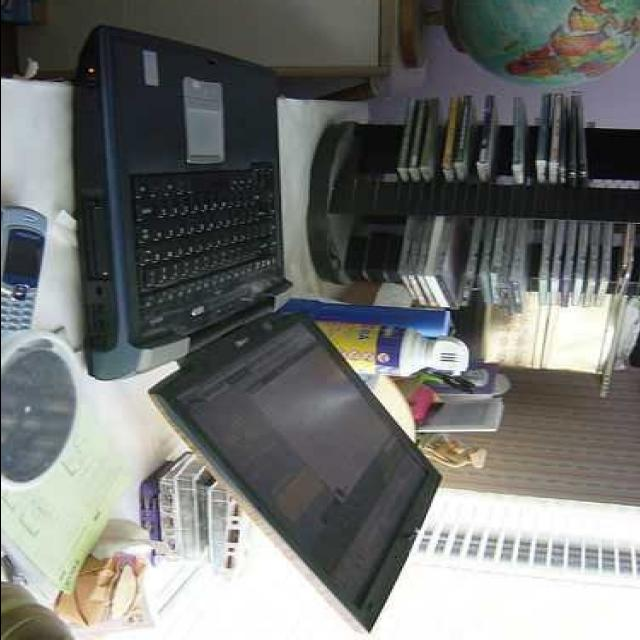laptop: (84, 34, 438, 516)
